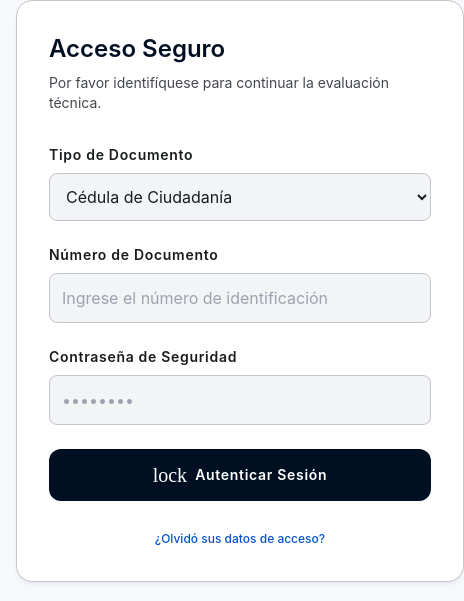
Test case: AuthForm › limits password to 15 alphanumeric characters
The width and height of the screenshot is (464, 601).
Type "abcdefghijklmnopqrstuvwxyz" into the password field with placeholder "••••••••" at (240, 400), box x1=49 y1=375 x2=431 y2=425
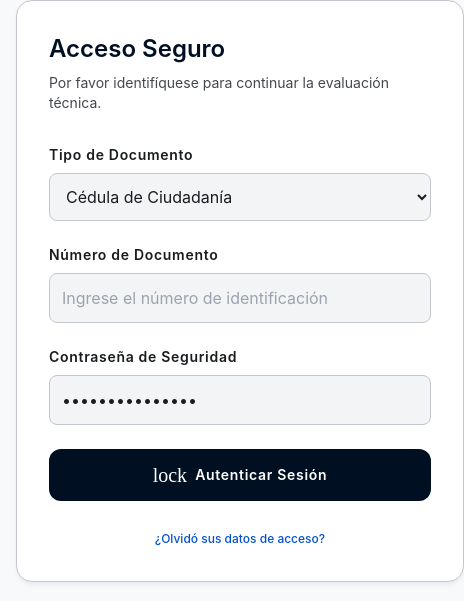
Check: the password field with placeholder "••••••••" holds "abcdefghijklmno", box x1=49 y1=375 x2=431 y2=425
